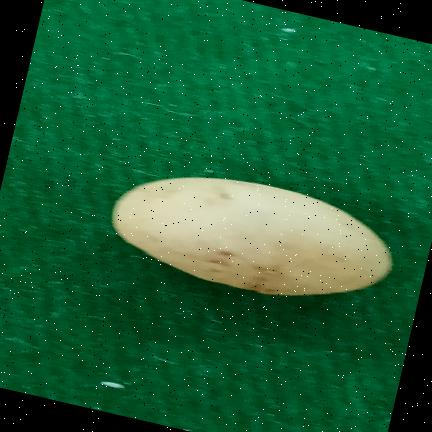parchment: (112, 178, 392, 296)
